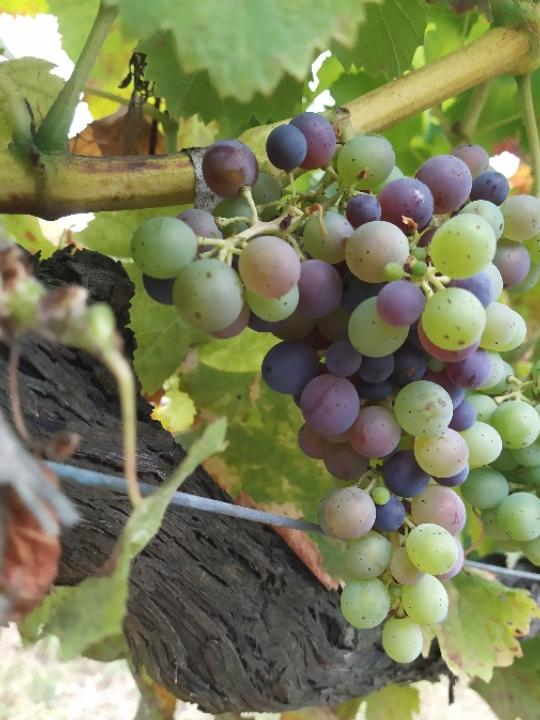grape: (129, 103, 540, 666)
